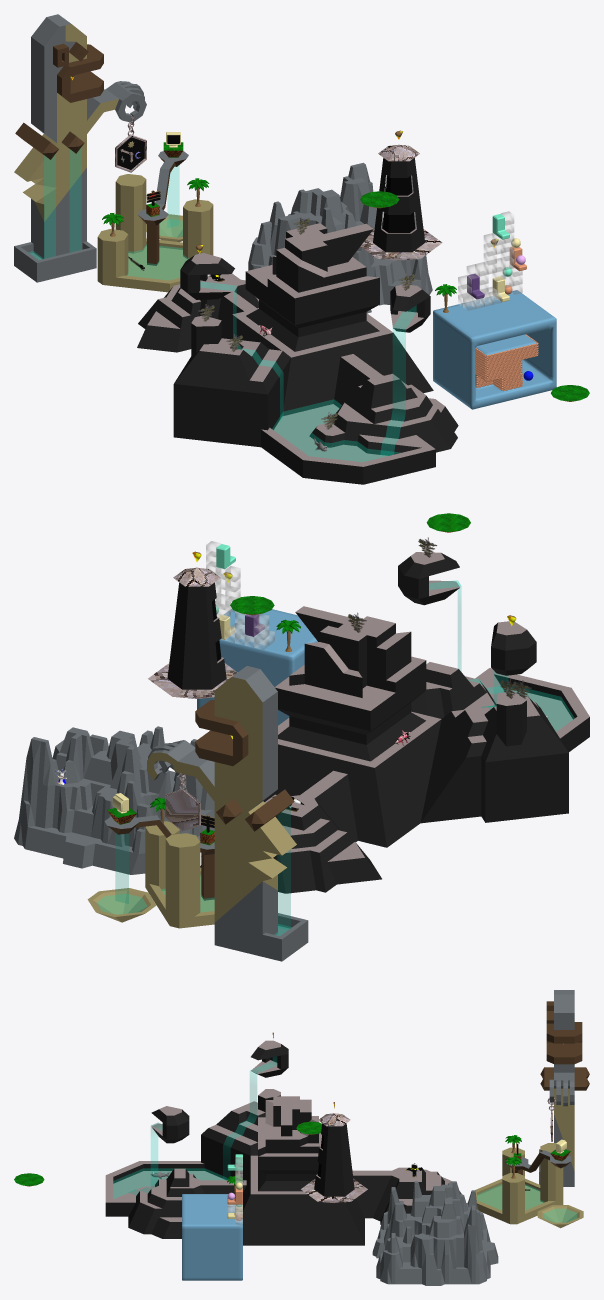
Rendered from deep_see.glb.
The picture shows the model from 3 angles, top to bottom: view 1: azimuth 30°, elevation 25°; view 2: azimuth 150°, elevation 25°; view 3: azimuth 270°, elevation 25°; orthographic projection. The views are drawn at different scales.
Parts seen in each view (by area): view 1: Low Poly Fortress_69, Two Face Tower_98, Halftone Block_24, Pool Of Eels_93, Mountain_1, Gaming Tower_68, NurbsPath.012_83, NurbsPath.011_82, NurbsPath.009_81, Cube.003_51, Clock_16, NurbsPath.007_79 (+1 smaller); view 2: Low Poly Fortress_69, Two Face Tower_98, Mountain_1, Pool Of Eels_93, Gaming Tower_68, Halftone Block_24, Clock_16, NurbsPath.011_82, Cube.003_51, NurbsPath.008_80, NurbsPath.012_83, Dirt Platform 1_66 (+1 smaller); view 3: Low Poly Fortress_69, Mountain_1, Pool Of Eels_93, Two Face Tower_98, Halftone Block_24, Gaming Tower_68, NurbsPath.007_79, NurbsPath.012_83.
Boxes of the visible parts, <box> form: Low Poly Fortress_69: <box>137,223,458,484</box>; Two Face Tower_98: <box>14,14,146,282</box>; Halftone Block_24: <box>433,290,556,409</box>; Pool Of Eels_93: <box>97,151,213,292</box>; Mountain_1: <box>248,162,432,313</box>; Gaming Tower_68: <box>360,144,442,260</box>; NurbsPath.012_83: <box>381,306,416,455</box>; NurbsPath.011_82: <box>44,154,55,258</box>; NurbsPath.009_81: <box>70,148,81,251</box>; Cube.003_51: <box>458,271,501,310</box>; Clock_16: <box>115,115,146,172</box>; NurbsPath.007_79: <box>200,282,283,420</box>; Low Poly Fortress_69: <box>200,552,589,893</box>; Two Face Tower_98: <box>147,666,308,961</box>; Mountain_1: <box>14,726,214,874</box>; Pool Of Eels_93: <box>87,815,214,928</box>; Gaming Tower_68: <box>148,567,237,698</box>; Halftone Block_24: <box>197,609,317,725</box>; Clock_16: <box>165,773,200,831</box>; NurbsPath.011_82: <box>277,805,290,929</box>; Cube.003_51: <box>225,612,274,649</box>; NurbsPath.008_80: <box>115,833,128,903</box>; NurbsPath.012_83: <box>429,580,503,693</box>; Dirt Platform 1_66: <box>426,513,470,532</box>; Low Poly Fortress_69: <box>105,1040,461,1245</box>; Mountain_1: <box>372,1181,498,1285</box>; Pool Of Eels_93: <box>475,1143,583,1228</box>; Two Face Tower_98: <box>539,990,589,1186</box>; Halftone Block_24: <box>182,1194,242,1280</box>; Gaming Tower_68: <box>301,1113,367,1202</box>; NurbsPath.007_79: <box>223,1057,276,1179</box>; NurbsPath.012_83: <box>128,1122,162,1195</box>.
Size of what is drawn, in the model's own units: 41 by 28 by 75.5.
Materials: 33 (12 with a texture image).
